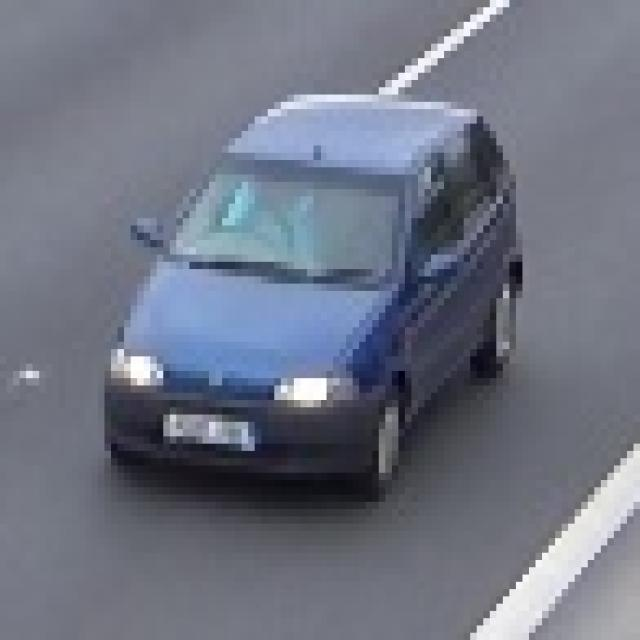blue: (110, 92, 520, 522)
